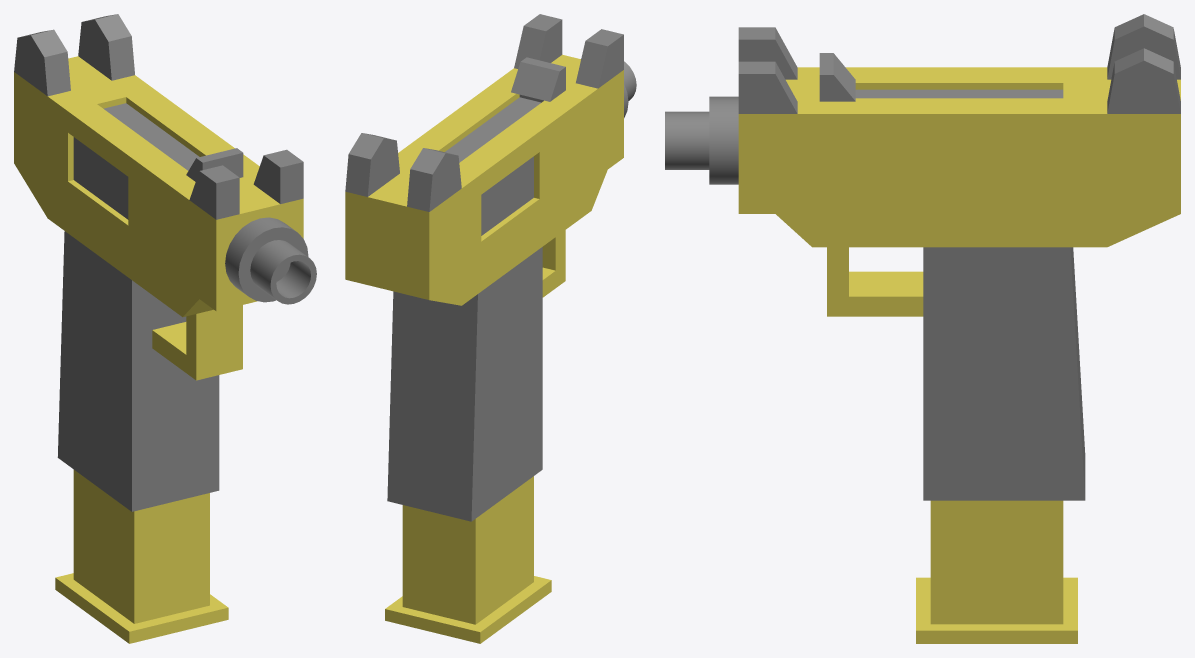
Rendered from uziGold.glb.
The picture shows the model from 3 angles, left to right: view 1: azimuth 30°, elevation 25°; view 2: azimuth 150°, elevation 25°; view 3: azimuth 270°, elevation 25°; orthographic projection. The views are drawn at different scales.
Visible parts, largest first — view 1: Mesh3 Group4 Group1 Model, Mesh1 Group2 Group1 Model, Mesh2 Group3 Group1 Model; view 2: Mesh3 Group4 Group1 Model, Mesh1 Group2 Group1 Model, Mesh2 Group3 Group1 Model; view 3: Mesh3 Group4 Group1 Model, Mesh1 Group2 Group1 Model, Mesh2 Group3 Group1 Model.
Part boxes in pixels (x1,y1,x2,y2): Mesh3 Group4 Group1 Model: [14, 14, 316, 511]; Mesh1 Group2 Group1 Model: [55, 470, 228, 643]; Mesh2 Group3 Group1 Model: [186, 148, 243, 181]; Mesh3 Group4 Group1 Model: [345, 14, 636, 521]; Mesh1 Group2 Group1 Model: [385, 476, 551, 643]; Mesh2 Group3 Group1 Model: [511, 57, 565, 102]; Mesh3 Group4 Group1 Model: [665, 14, 1180, 500]; Mesh1 Group2 Group1 Model: [916, 500, 1077, 643]; Mesh2 Group3 Group1 Model: [819, 53, 855, 101].
Bounding box in the file's own units: 0.0102 × 0.0522 × 0.0421.
